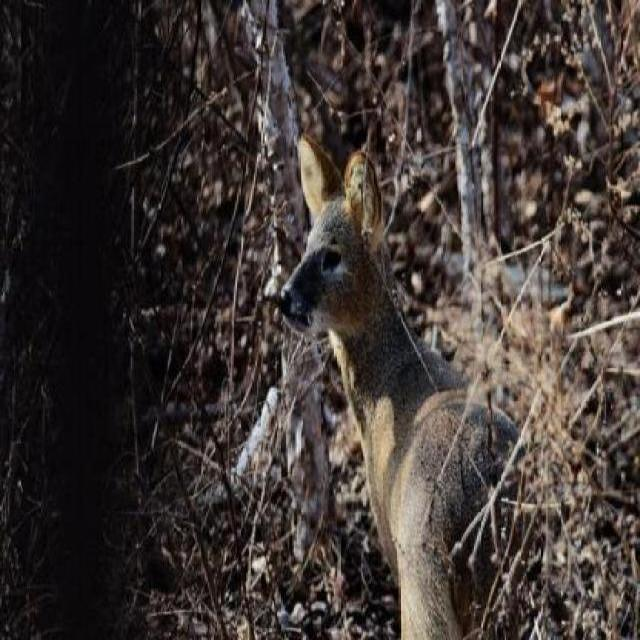deer: (278, 129, 524, 639)
